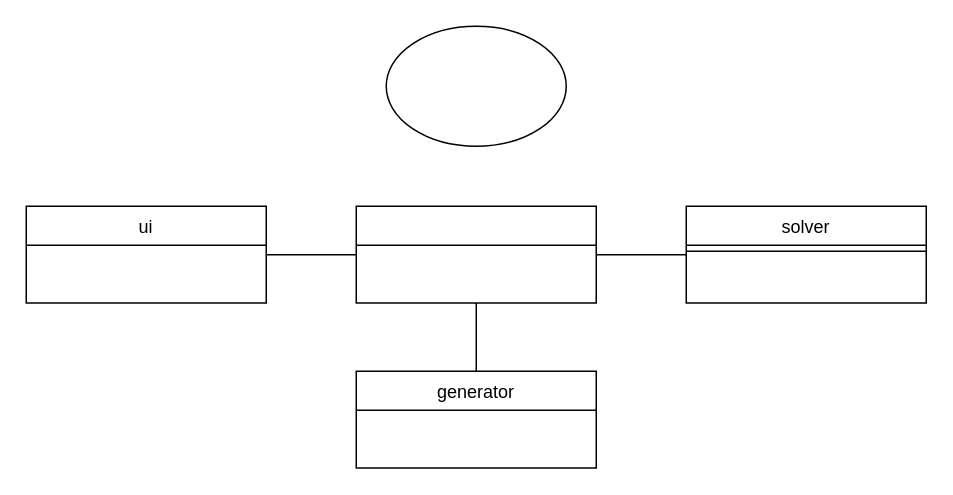
The diagram is 953 pixels wide and 495 high, and some of its shapes have lost their labels. Each missing label, with the centre of its shape:
"index.py" goes at point 475,85.
"sudoku" goes at point 475,254.
